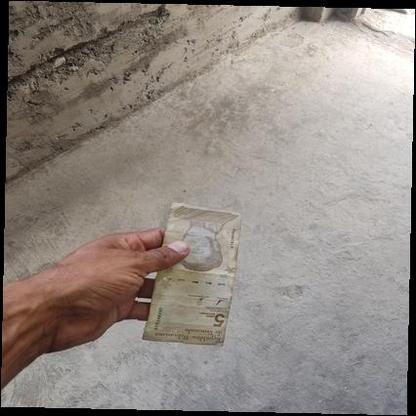five-front-vef: (142, 200, 242, 347)
